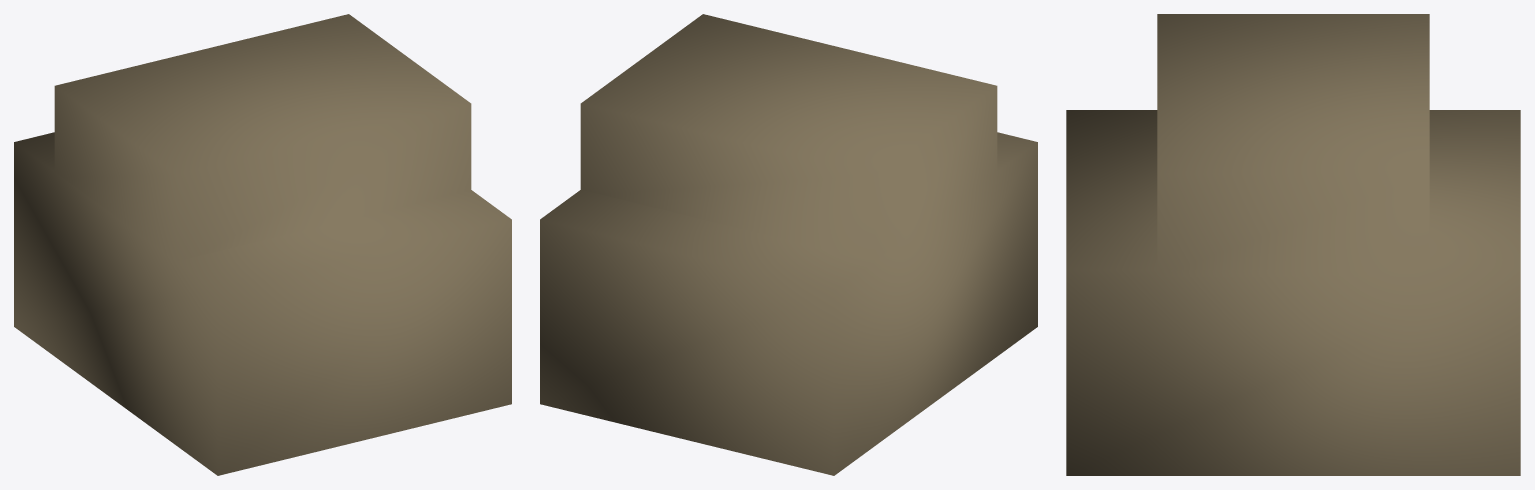
Rendered from goose_ranch.obj.
3 renders of one model, left to right at view 1: azimuth 30°, elevation 25°; view 2: azimuth 150°, elevation 25°; view 3: azimuth 270°, elevation 25°, orthographic. The views are drawn at different scales.
Parts seen in each view (by area): view 1: building; view 2: building; view 3: building.
Part boxes in pixels (x1,y1,x2,y2): building: [14, 14, 511, 475]; building: [540, 14, 1037, 475]; building: [1066, 14, 1520, 475].
Size of the model in its own units: 2.5 by 2.2 by 3.
